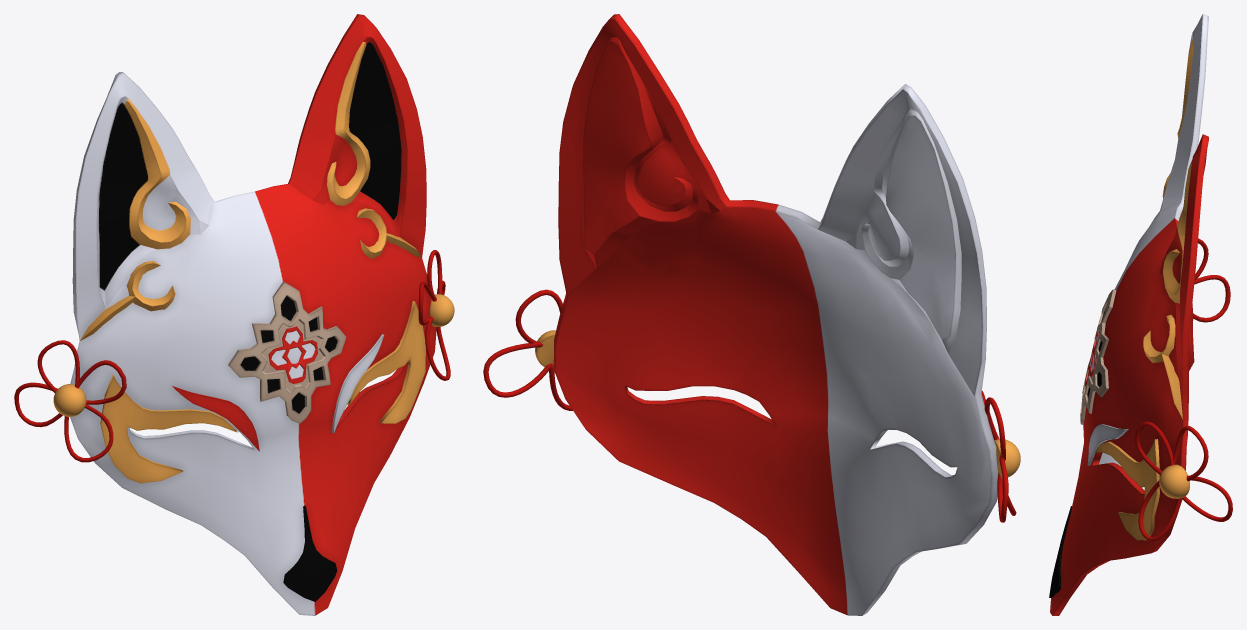
The model's file is mask.glb.
3 renders of one model, left to right at view 1: azimuth 30°, elevation 25°; view 2: azimuth 150°, elevation 25°; view 3: azimuth 270°, elevation 25°, orthographic. The views are drawn at different scales.
Visible parts, largest first — view 1: Plane; view 2: Plane; view 3: Plane.
Part boxes in pixels (x1=…): Plane: x1=14, y1=14, x2=454, y2=615; Plane: x1=483, y1=14, x2=1020, y2=615; Plane: x1=1049, y1=14, x2=1232, y2=615.
Bounding box in the file's own units: 9.04 × 10.39 × 3.22.
Materials: 1 (1 with a texture image).
